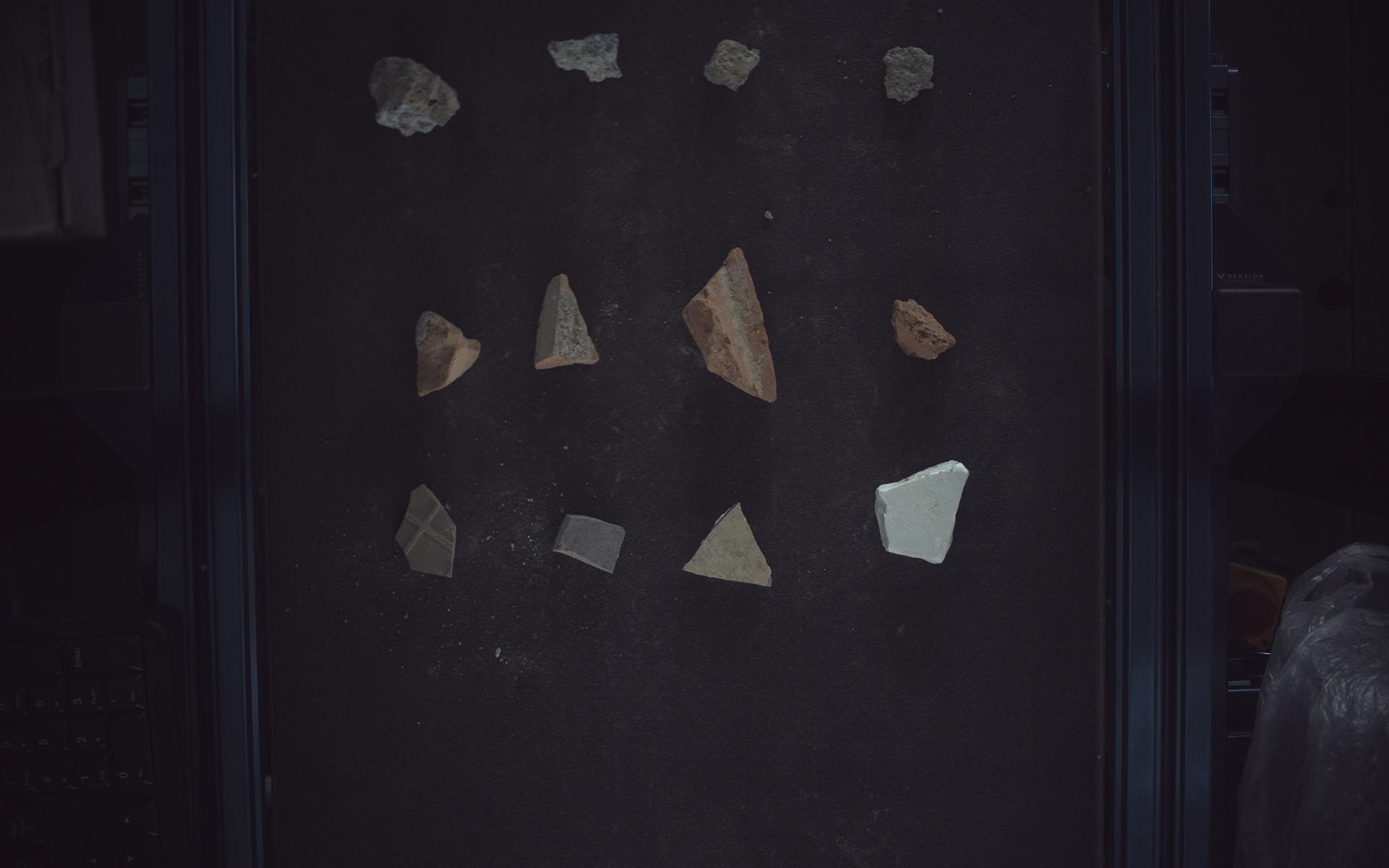brick: (684, 247, 778, 401), (535, 273, 600, 370), (415, 311, 481, 396), (893, 299, 958, 359)
concrete: (369, 56, 460, 135), (549, 32, 623, 81), (705, 38, 761, 90), (885, 46, 935, 101)
tile: (878, 461, 971, 564), (684, 504, 773, 587), (396, 485, 456, 578), (553, 515, 626, 574)
